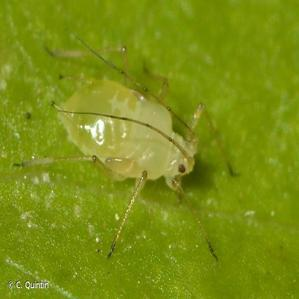Green peach aphid: (5, 16, 239, 283)
